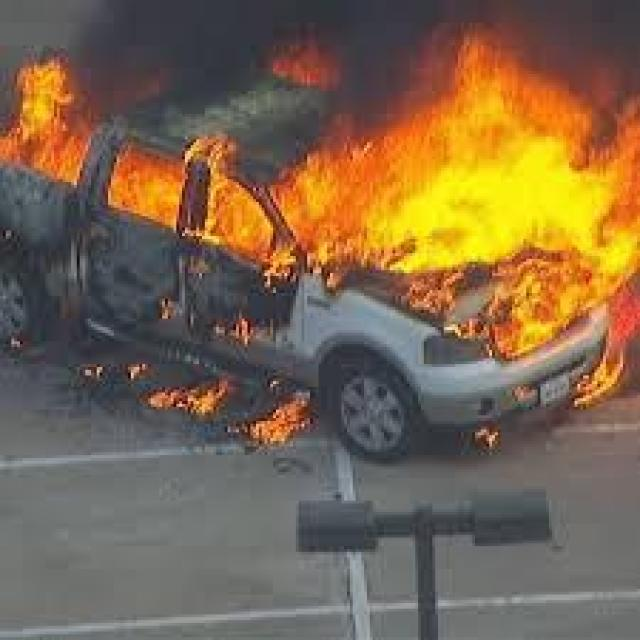fire: (191, 7, 632, 347), (0, 42, 91, 188), (104, 131, 184, 227), (236, 389, 313, 446), (142, 377, 225, 418), (567, 356, 630, 400), (470, 423, 502, 450), (79, 359, 105, 379), (122, 362, 151, 374)
